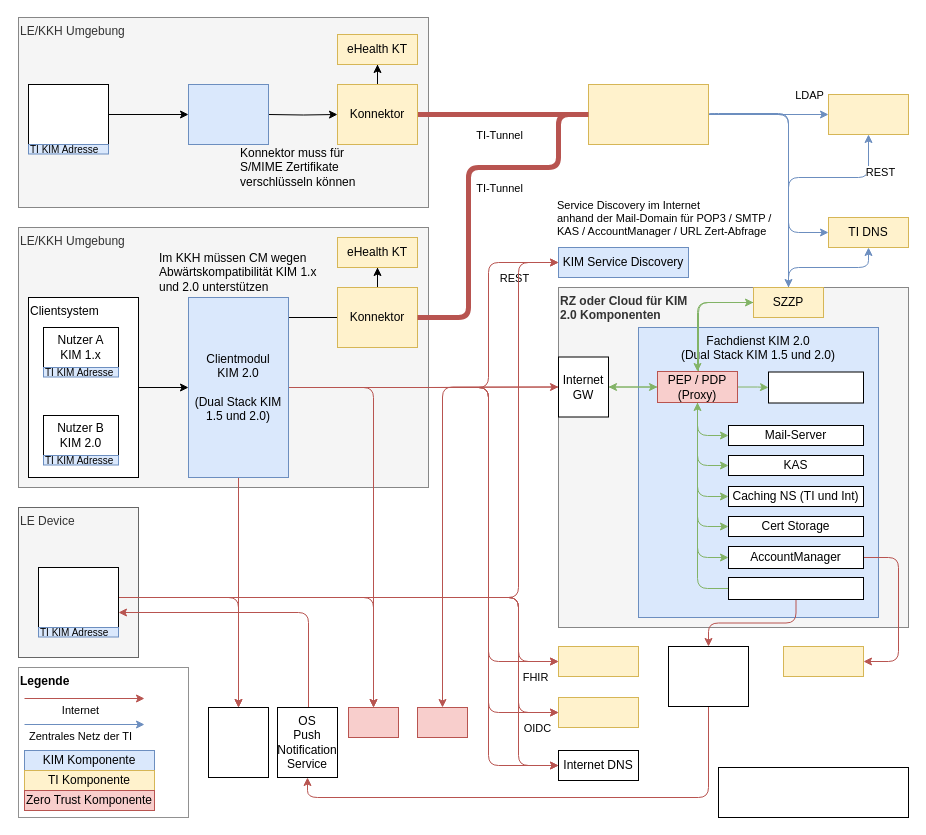
This 926x835 diagram has some shape labels left out. The centre of each missing label's shape, as x and y in pixels:
Clientmodul KIM 1.x: pixel 228 114
Clientsystem Nutzer A: pixel 68 114
gematik IDP: pixel 598 712
GMS: pixel 373 722
KIM 2.0 Architektur Herausgeber: gematik, Team KIM Datum: 16.01.2024: pixel 813 792
Mobile App KIM 2.0 Nutzer C: pixel 78 597
OAuth Server: pixel 816 387
OS App Attestation Service: pixel 238 742
PAP/PIP: pixel 442 722
Push Gateway der App: pixel 708 676
Push-Service: pixel 796 588
TSP für S/MIME: pixel 823 661
VPN-ZugD: pixel 648 114
VZD FHIR-Dir: pixel 598 661
VZD LDAP-Dir: pixel 868 114
